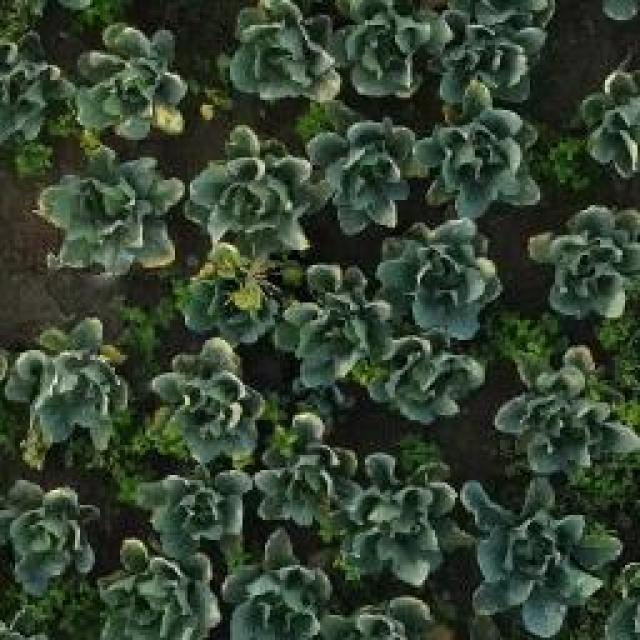cabbage: (464, 485, 614, 620), (493, 353, 630, 476), (42, 160, 183, 279), (10, 319, 128, 455), (416, 93, 546, 212), (76, 23, 194, 146), (339, 458, 456, 582), (295, 116, 417, 229), (384, 225, 506, 337), (157, 339, 263, 462), (188, 135, 298, 253), (267, 265, 376, 384), (225, 0, 340, 108), (252, 411, 356, 528), (434, 0, 554, 101), (100, 540, 223, 638), (381, 336, 495, 440), (538, 201, 640, 311), (169, 250, 281, 349), (227, 528, 324, 634), (338, 0, 438, 101), (1, 482, 90, 591), (133, 464, 252, 542), (572, 73, 640, 176)
